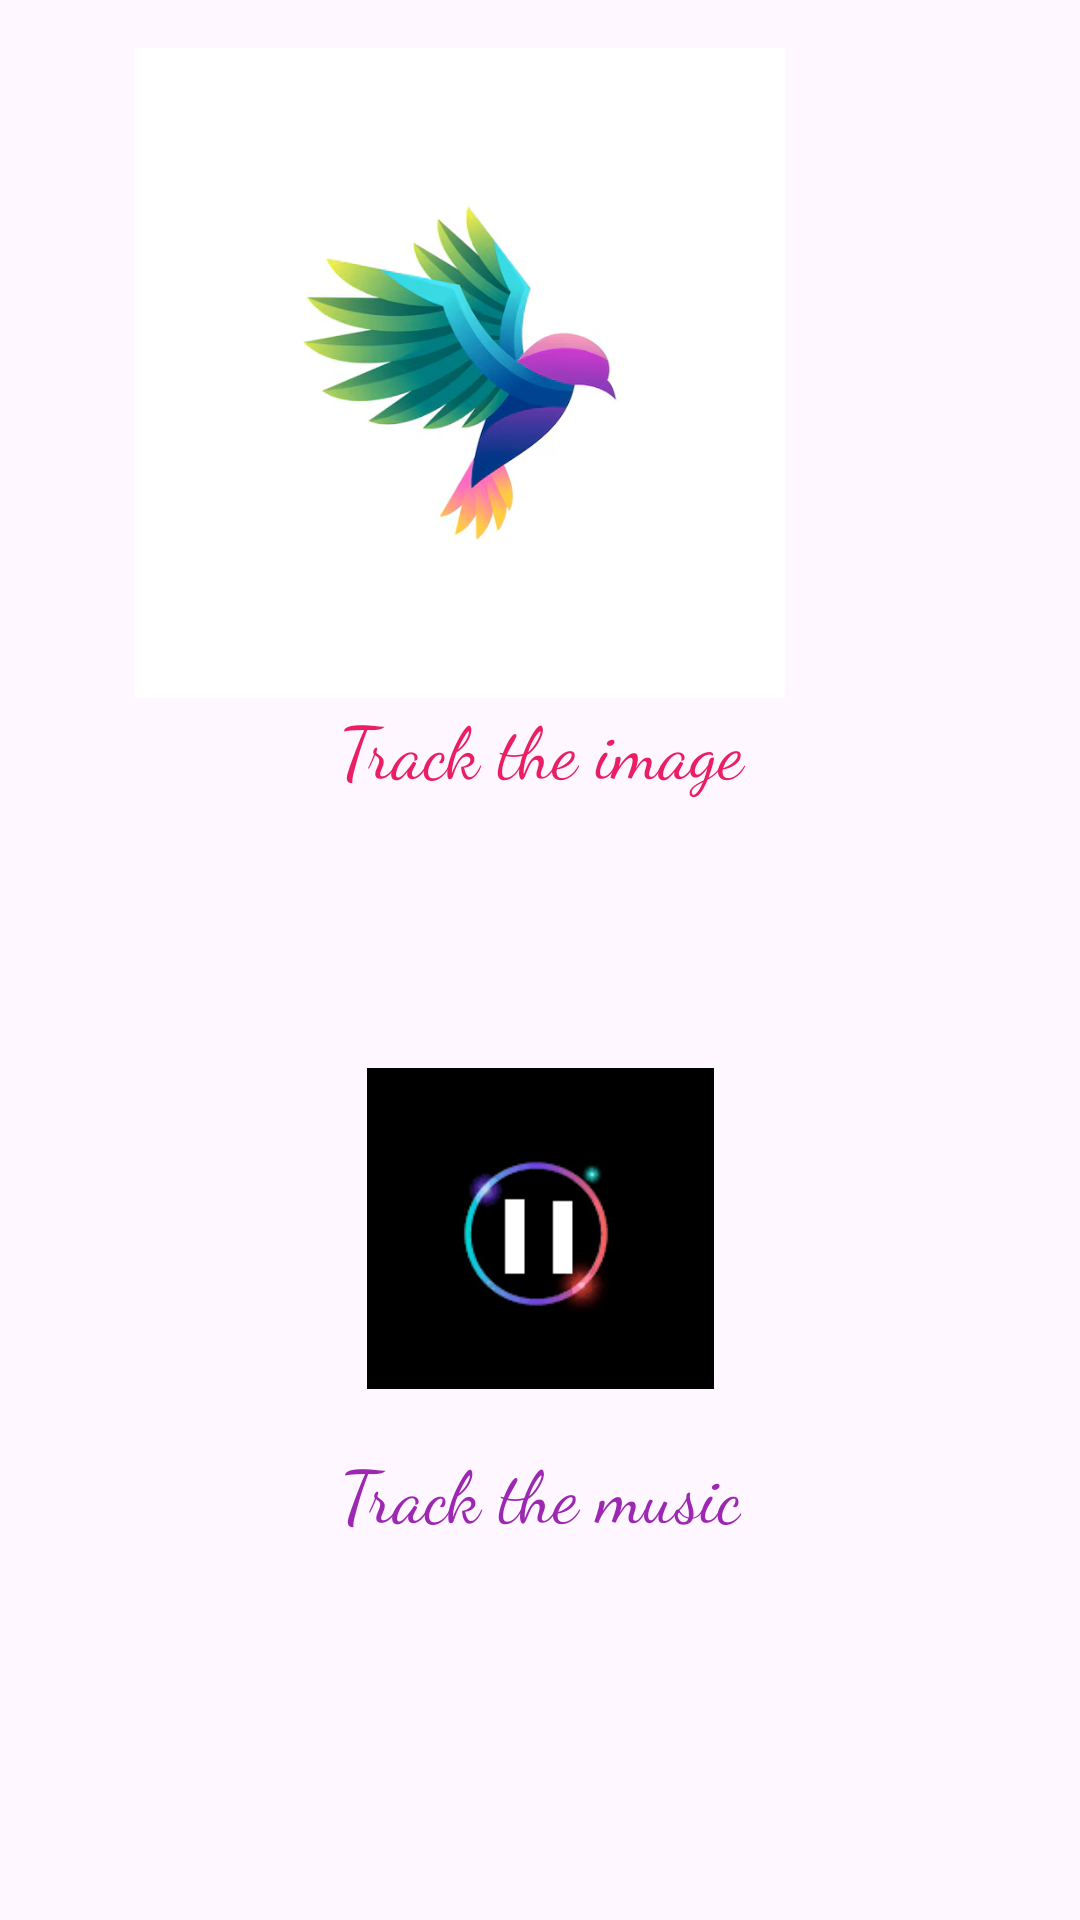

Icon bounding boxes for this 1080×1920 phone screenshot, format {"left": x1, "top": y1, "right": x2, "bottom": y2}:
pauseicon: {"left": 367, "top": 1068, "right": 714, "bottom": 1389}
